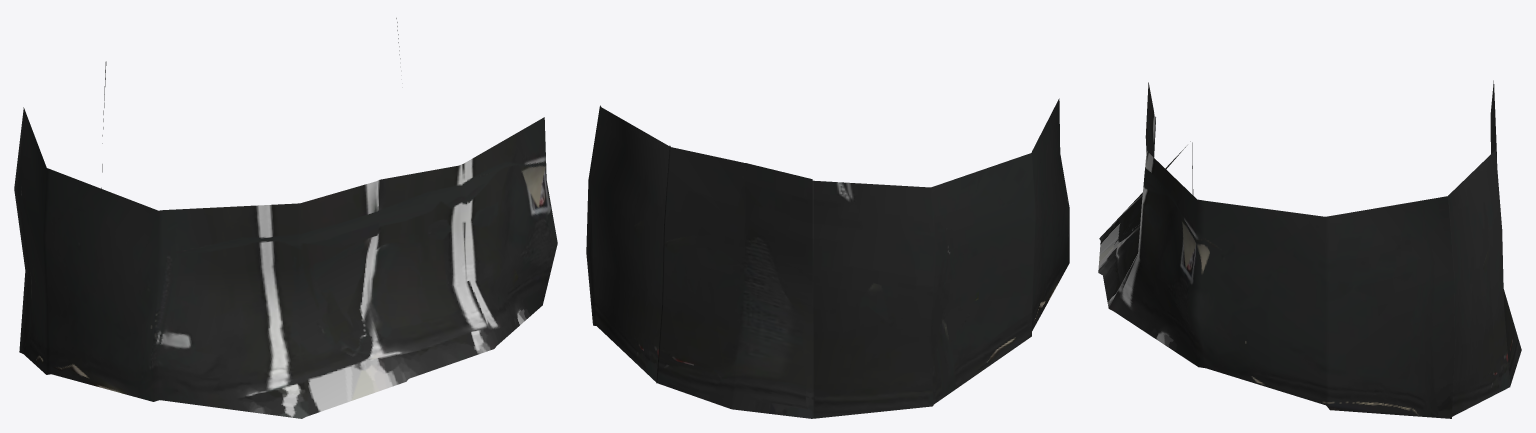
3 views of the same model, side by side, from view 1: azimuth 30°, elevation 25°; view 2: azimuth 150°, elevation 25°; view 3: azimuth 270°, elevation 25° (orthographic). The views are drawn at different scales.
Parts seen in each view (by area): view 1: geometry_0; view 2: geometry_0; view 3: geometry_0.
Boxes of the visible parts, left/top/right/bottom form: geometry_0: left=14, top=18, right=557, bottom=418; geometry_0: left=586, top=98, right=1069, bottom=418; geometry_0: left=1098, top=80, right=1521, bottom=418.
Size of the model in its own units: 0.3998 by 0.2163 by 0.3488.
1 material, 1 textured.
